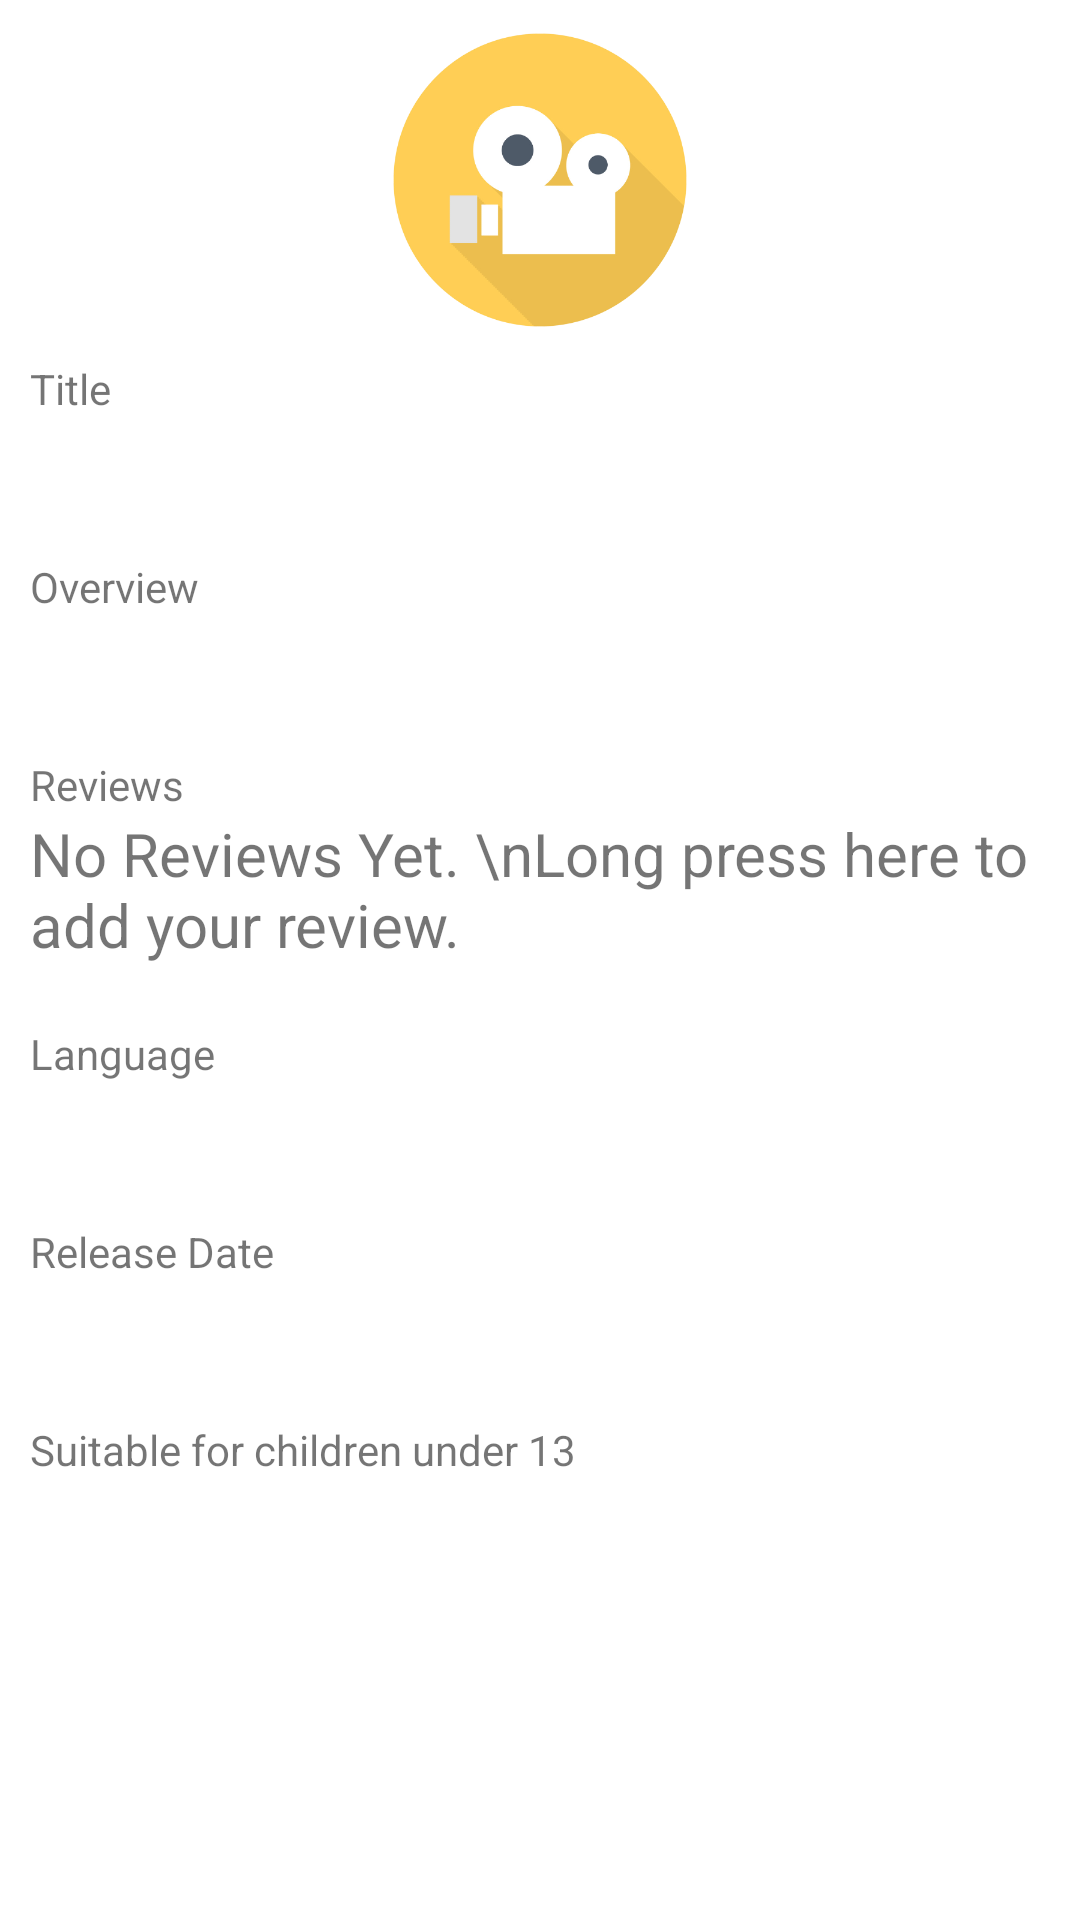

Icons on this 1080×1920 Android screen, each with its box as (x1, y1, x2, y2):
moviedefault: (393, 33, 687, 327)
